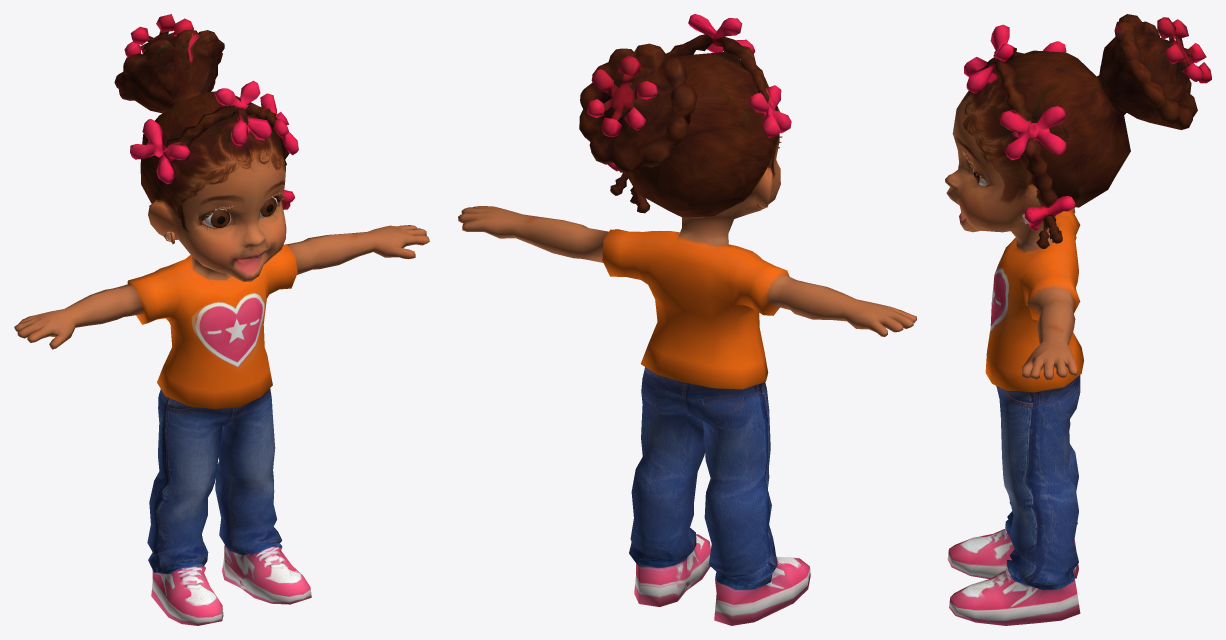
3 renders of one model, left to right at view 1: azimuth 30°, elevation 25°; view 2: azimuth 150°, elevation 25°; view 3: azimuth 270°, elevation 25°, orthographic. The views are drawn at different scales.
Parts seen in each view (by area): view 1: tripo_node_cda93dfa; view 2: tripo_node_cda93dfa; view 3: tripo_node_cda93dfa.
Part boxes in pixels (left/top/right/bottom): tripo_node_cda93dfa: left=14, top=14, right=429, bottom=625; tripo_node_cda93dfa: left=458, top=14, right=916, bottom=625; tripo_node_cda93dfa: left=945, top=14, right=1211, bottom=625.
Bounding box in the file's own units: 31.14 × 38.83 × 16.22.
1 material, 1 textured.
